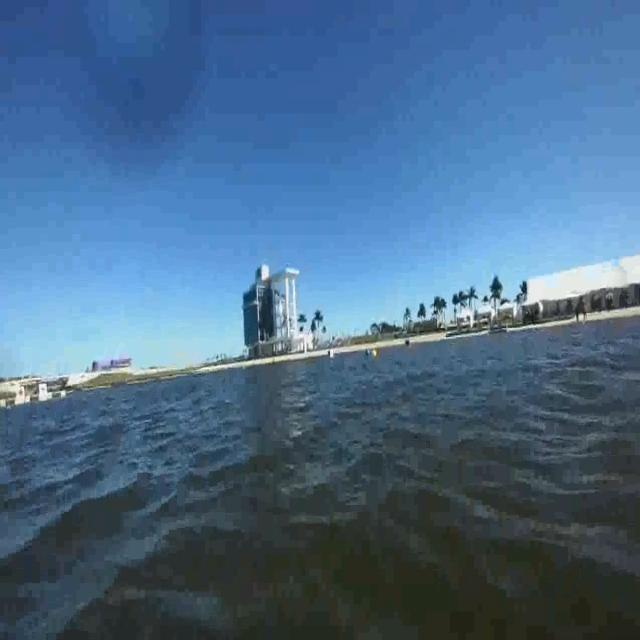yellow-buoy: (371, 348, 380, 359)
